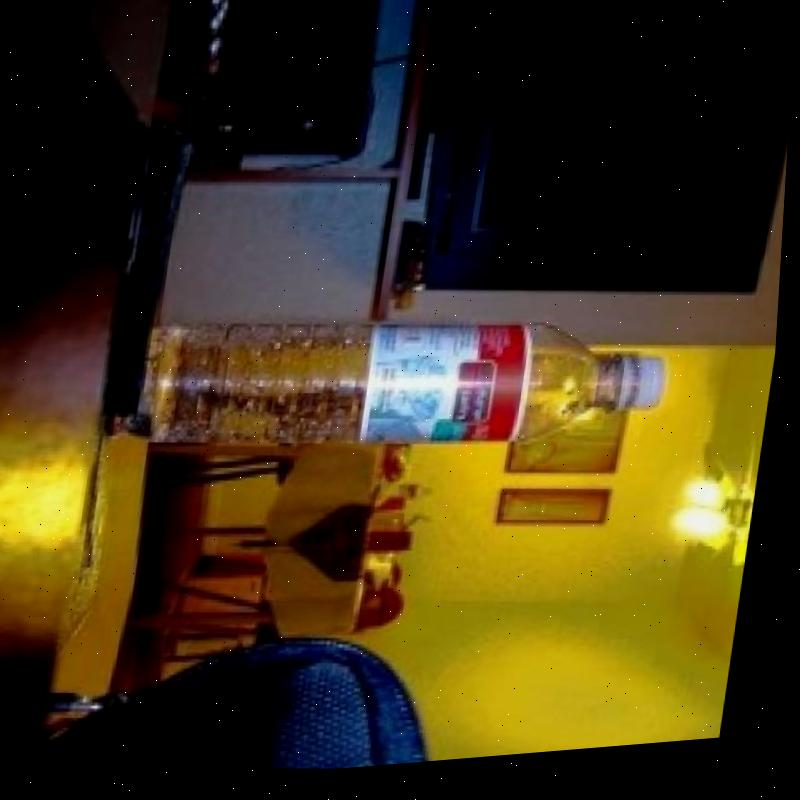botella: (119, 283, 680, 494)
